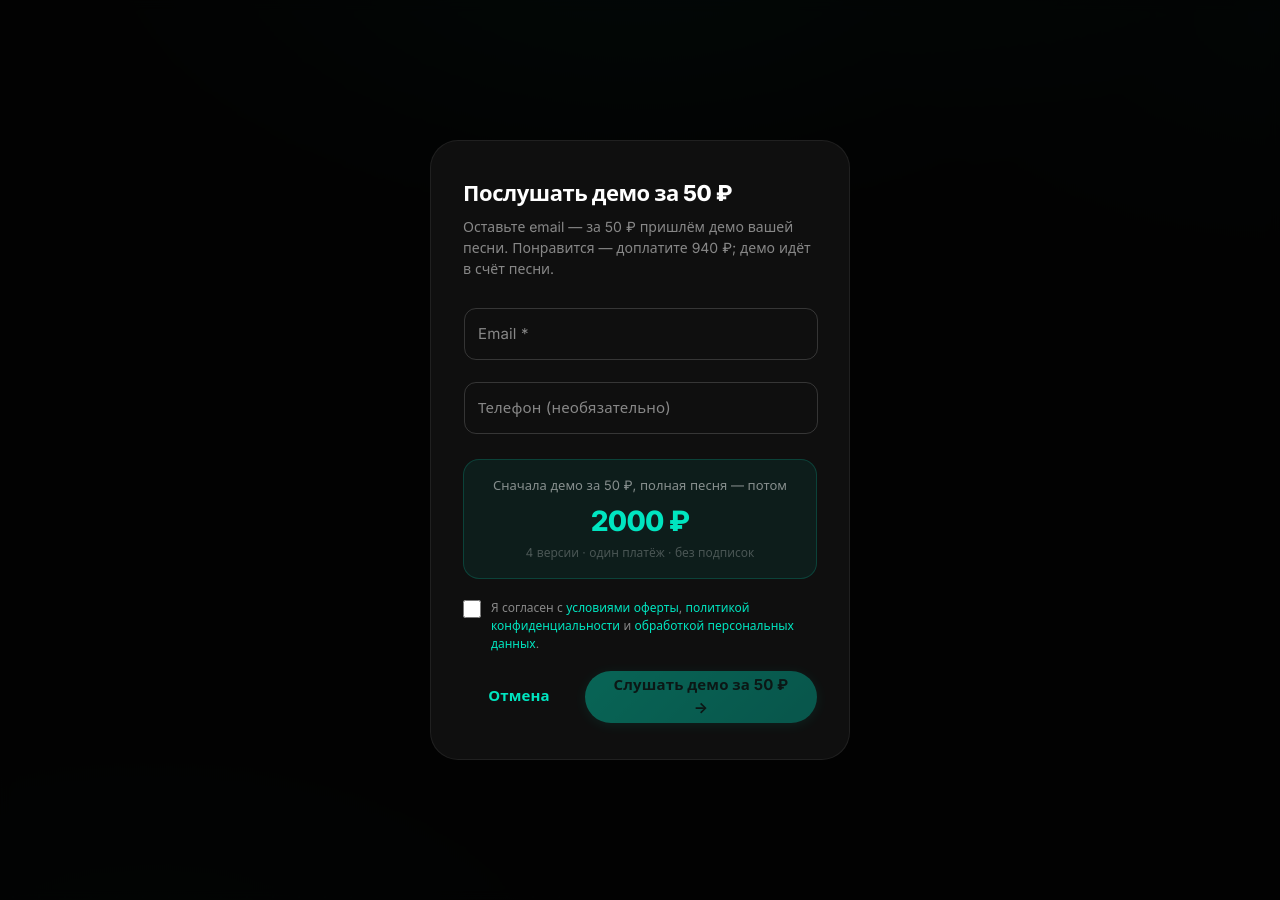
ContactModal › показывает подтверждение адреса для корректного email
Type "ivan@gmail.com" into the field labelled "Email *" at x=641, y=334, box [464,308,818,360]
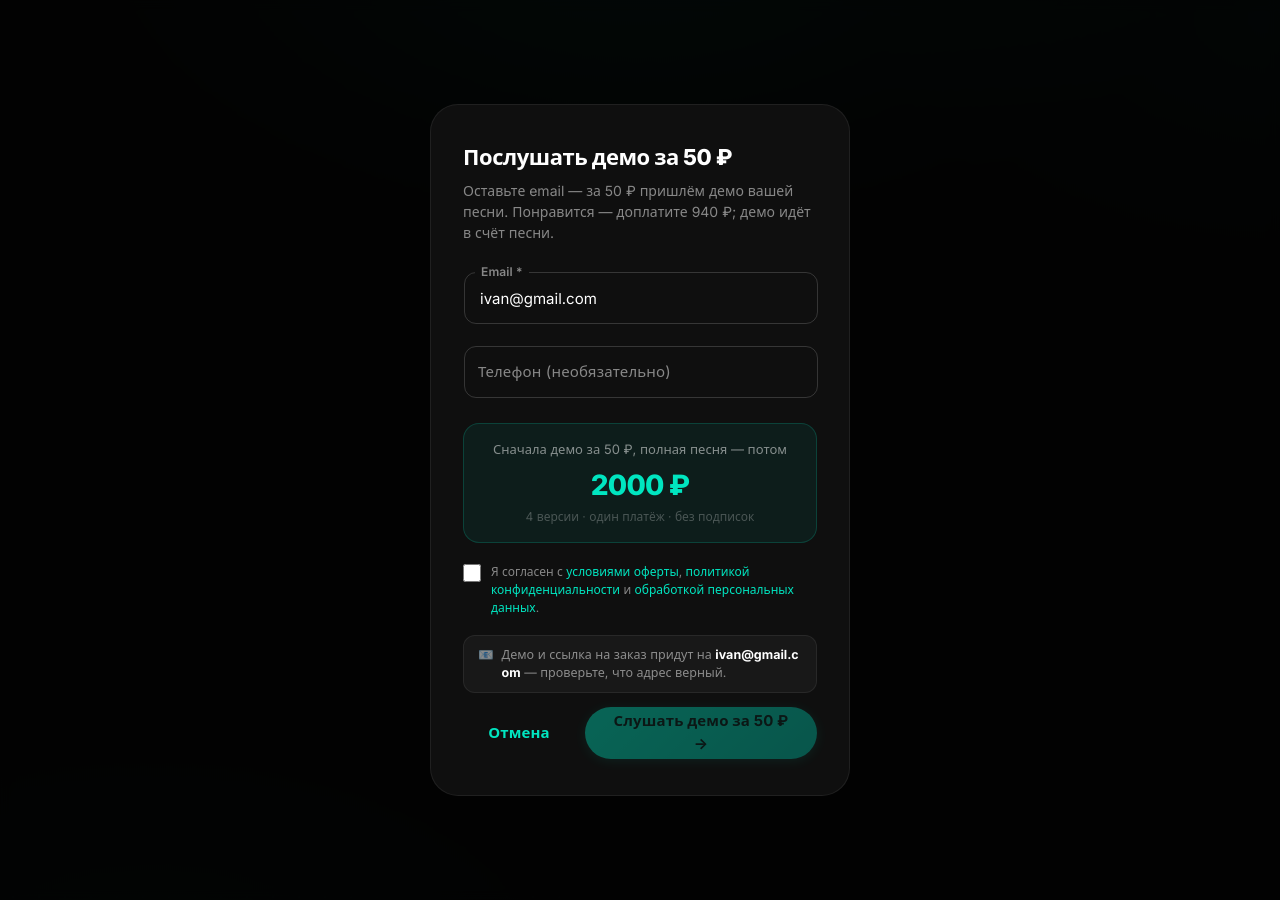
Check: the text "придут на" is shown, box [502,646,802,682]
Check: the text "ivan@gmail.com" is shown, box [502,647,799,680]
